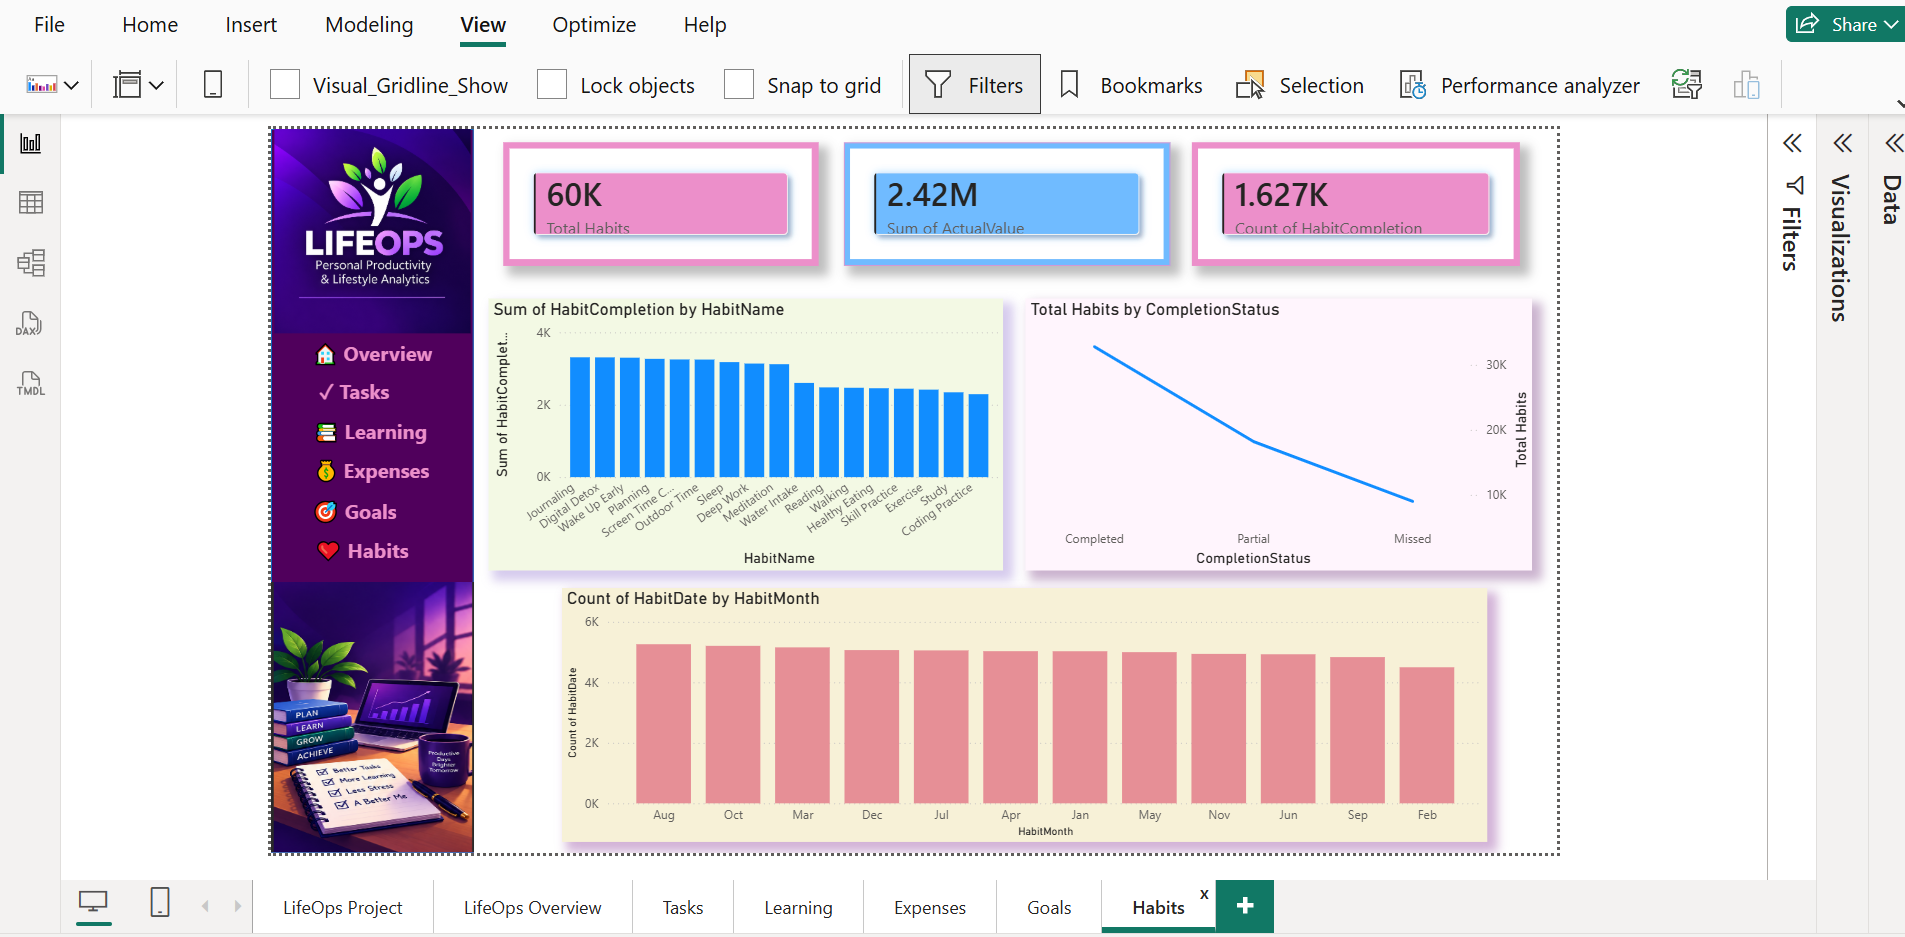

What the dashboard file says about the page in this screenshot:
{"tool":"powerbi","page":{"name":"Habits","canvas":[1280,720],"ordinal":6},"visuals":[{"type":"shape","box":[0,0,201.7,720],"z":0},{"type":"actionButton","box":[19.1,203.6,163.8,39.8],"z":1000},{"type":"actionButton","box":[0,240.2,165.4,39.8],"z":2000},{"type":"actionButton","box":[33.4,279.9,132,39.8],"z":3000},{"type":"actionButton","box":[33.4,319.7,135.2,39.8],"z":4000},{"type":"actionButton","box":[0,359.5,165.4,39.8],"z":5000},{"type":"actionButton","box":[33.4,399.2,114.5,39.8],"z":6000},{"type":"cardVisual","fields":{"Data":["Habits_fixed.Total Habits"]},"box":[230.6,12.7,313.4,122.5],"z":7000},{"type":"cardVisual","fields":{"Data":["Sum(Habits_fixed.ActualValue)"]},"box":[569.4,12.7,324.5,122.5],"z":8000},{"type":"clusteredColumnChart","fields":{"Y":["Sum(Habits_fixed.HabitCompletion)"],"Category":["Habits_fixed.HabitName"]},"box":[216.3,168.6,512.2,270.4],"z":9000},{"type":"lineChart","fields":{"Category":["Habits_fixed.CompletionStatus"],"Y2":["Habits_fixed.Total Habits"]},"box":[750.8,168.6,504.2,270.4],"z":10000},{"type":"lineClusteredColumnComboChart","fields":{"Y":["CountNonNull(Habits_fixed.HabitDate)"],"Category":["Habits_fixed.HabitMonth"]},"box":[289.5,456.5,921,252.9],"z":11000},{"type":"image","box":[0,451.2,202,268.8],"z":11001},{"type":"image","box":[0,0,202,203.6],"z":11002},{"type":"cardVisual","fields":{"Data":["Count(Habits_fixed.HabitCompletion)"]},"box":[916.2,12.7,326.1,122.5],"z":11003}]}

Visuals, with their boxes on the page's 1280x720 design canvas (x1, y1, x2, y2). These are canvas units, not pixel positions in the 1905x937 screenshot, which may show the page scaled, cropped or inside an application window:
shape: {"left": 0, "top": 0, "right": 202, "bottom": 720}
actionButton: {"left": 19, "top": 204, "right": 183, "bottom": 243}
actionButton: {"left": 0, "top": 240, "right": 165, "bottom": 280}
actionButton: {"left": 33, "top": 280, "right": 165, "bottom": 320}
actionButton: {"left": 33, "top": 320, "right": 169, "bottom": 360}
actionButton: {"left": 0, "top": 360, "right": 165, "bottom": 399}
actionButton: {"left": 33, "top": 399, "right": 148, "bottom": 439}
cardVisual - Habits_fixed.Total Habits: {"left": 231, "top": 13, "right": 544, "bottom": 135}
cardVisual - Sum(Habits_fixed.ActualValue): {"left": 569, "top": 13, "right": 894, "bottom": 135}
clusteredColumnChart - Sum(Habits_fixed.HabitCompletion) x Habits_fixed.HabitName: {"left": 216, "top": 169, "right": 728, "bottom": 439}
lineChart - Habits_fixed.CompletionStatus x Habits_fixed.Total Habits: {"left": 751, "top": 169, "right": 1255, "bottom": 439}
lineClusteredColumnComboChart - CountNonNull(Habits_fixed.HabitDate) x Habits_fixed.HabitMonth: {"left": 290, "top": 456, "right": 1210, "bottom": 709}
image: {"left": 0, "top": 451, "right": 202, "bottom": 720}
image: {"left": 0, "top": 0, "right": 202, "bottom": 204}
cardVisual - Count(Habits_fixed.HabitCompletion): {"left": 916, "top": 13, "right": 1242, "bottom": 135}
